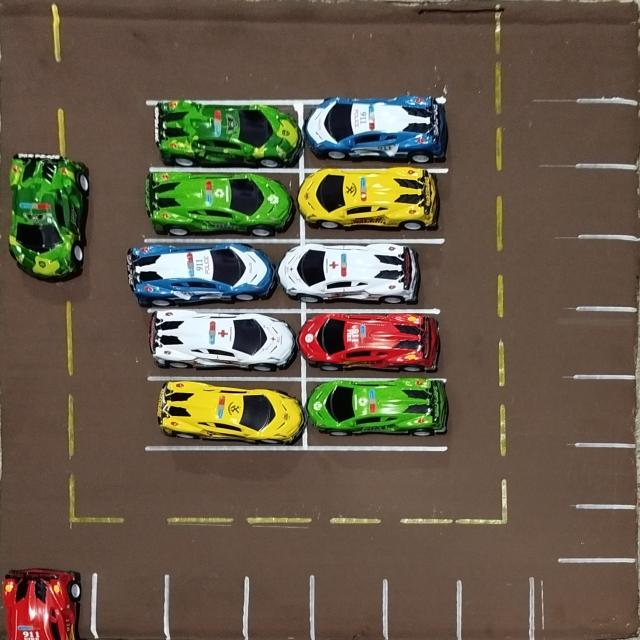libre: (166, 577, 244, 640), (575, 234, 640, 308), (94, 576, 166, 640), (384, 579, 459, 640), (311, 579, 385, 640), (459, 580, 533, 640), (578, 165, 640, 236), (578, 308, 640, 379), (576, 376, 640, 444), (244, 578, 314, 640), (578, 98, 640, 166), (575, 443, 640, 505), (579, 504, 640, 559)
no_estacionarse: (536, 560, 640, 640)
ocupado: (141, 239, 304, 310), (143, 168, 301, 240), (145, 377, 303, 449), (303, 375, 448, 448), (144, 310, 303, 376), (146, 103, 302, 170), (302, 100, 448, 170), (302, 239, 442, 309), (302, 170, 439, 240), (304, 310, 438, 376), (0, 560, 94, 640)
